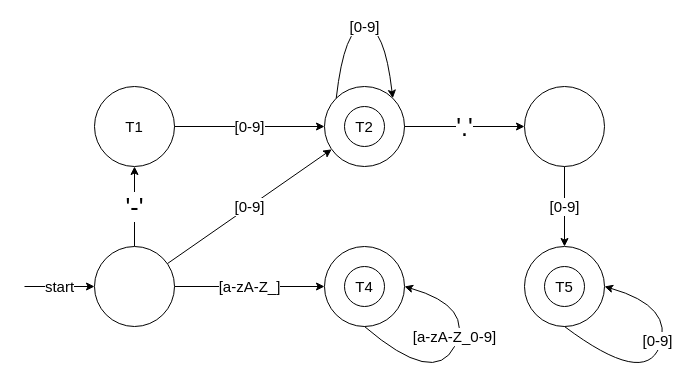
Some shapes in this 690 by 380 pixel diagram are drawn without their labels. The centre of each missing label's shape, as x and y in pixels:
"T0" goes at (x=134, y=286).
"T3" goes at (x=564, y=126).
